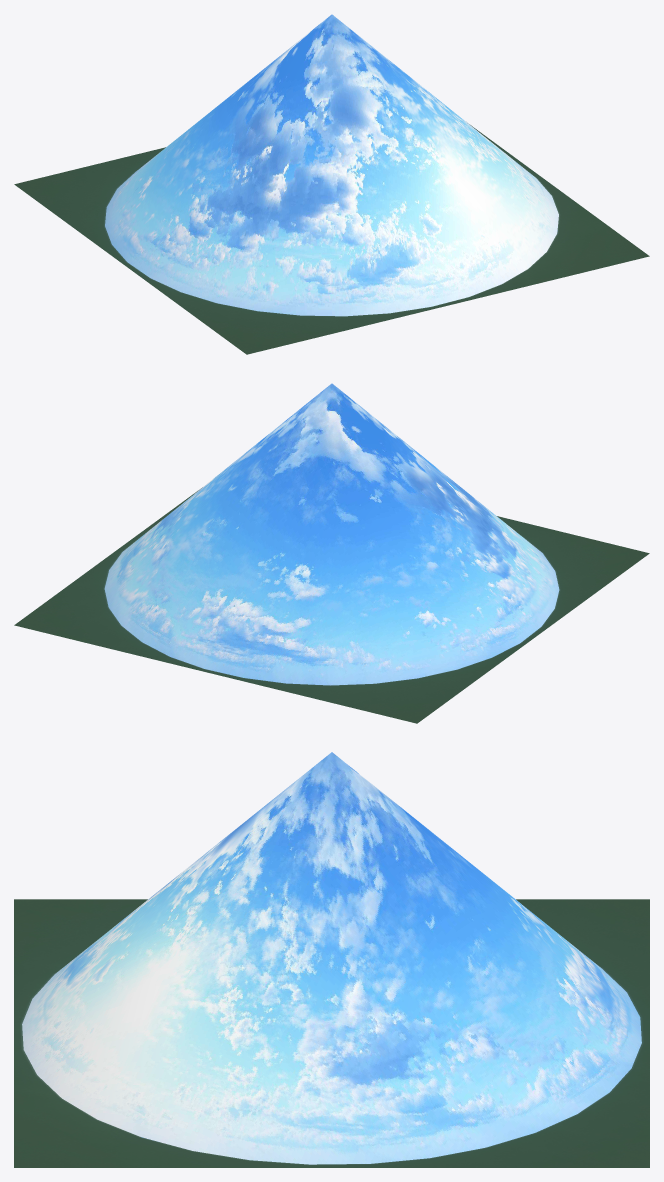
Rendered from Ground.glb.
The picture shows the model from 3 angles, top to bottom: view 1: azimuth 30°, elevation 25°; view 2: azimuth 150°, elevation 25°; view 3: azimuth 270°, elevation 25°; orthographic projection. The views are drawn at different scales.
Parts seen in each view (by area): view 1: Skybox.001, Water.001; view 2: Skybox.001, Water.001; view 3: Skybox.001, Water.001.
Boxes of the visible parts, bbox=[...] form: Skybox.001: bbox=[105, 14, 558, 316]; Water.001: bbox=[14, 124, 649, 354]; Skybox.001: bbox=[104, 383, 559, 685]; Water.001: bbox=[14, 487, 649, 723]; Skybox.001: bbox=[22, 752, 641, 1164]; Water.001: bbox=[14, 899, 649, 1167].
Bounding box in the file's own units: 215 × 105 × 215.
3 materials, 3 textured.
